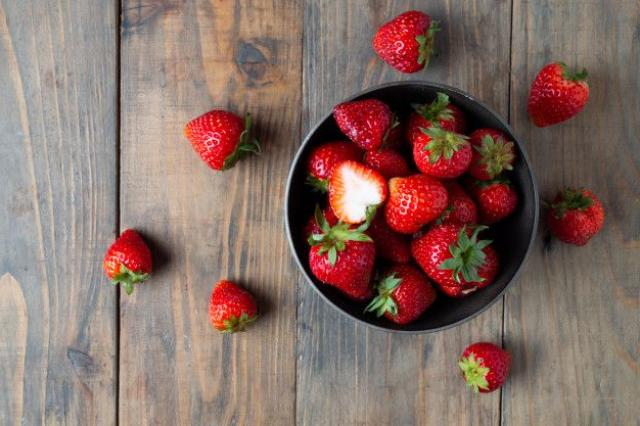Strawberries: (310, 226, 372, 298), (413, 220, 477, 286), (371, 12, 439, 74), (527, 61, 589, 129), (186, 108, 248, 170), (389, 174, 447, 233), (379, 268, 438, 324), (550, 187, 604, 248), (413, 126, 471, 182), (336, 98, 394, 149), (102, 229, 152, 286), (460, 340, 512, 394), (208, 279, 260, 333), (468, 124, 518, 176), (476, 176, 520, 223), (310, 145, 350, 185)
